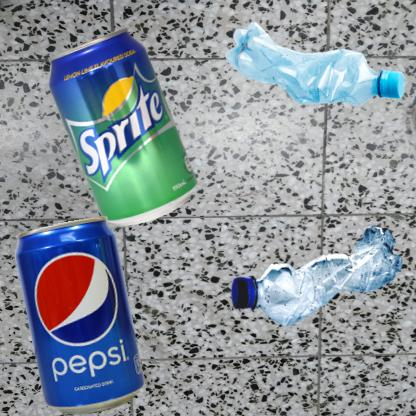botella: (213, 213, 416, 356), (213, 10, 416, 147)
lata: (10, 10, 256, 275), (10, 213, 161, 416)
